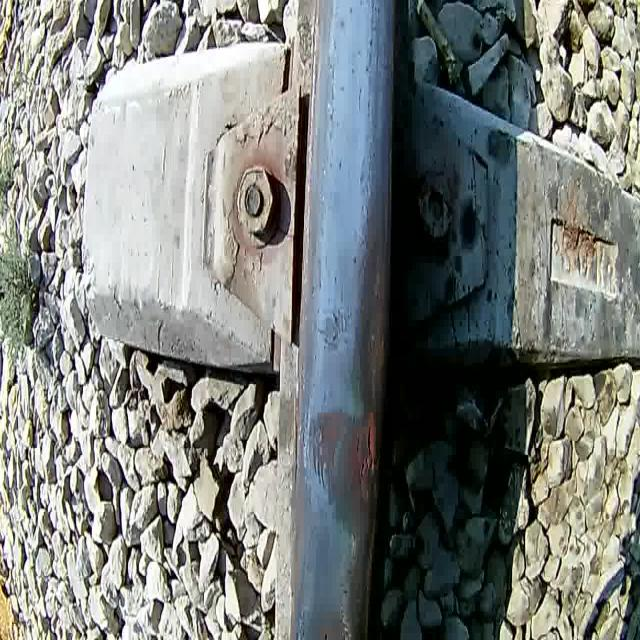Cracks: (328, 290, 356, 350)
Spallings: (352, 409, 378, 496)
Squats: (298, 403, 384, 552), (312, 280, 361, 360), (296, 590, 351, 640)
